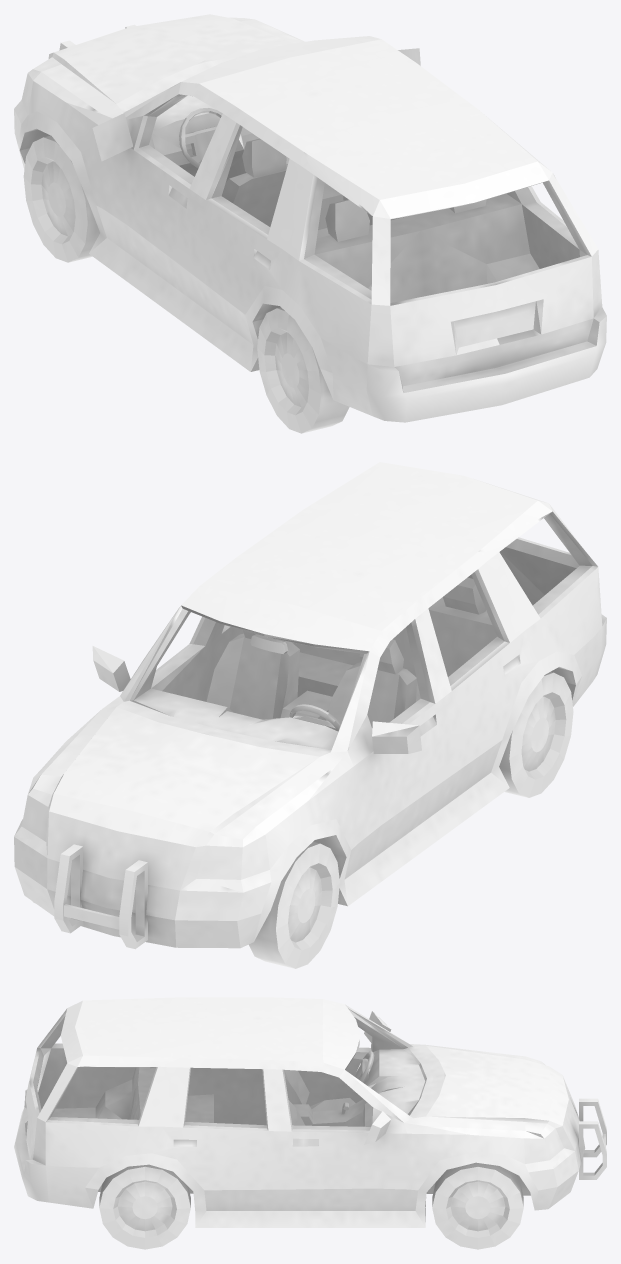
Rendered from Crossover.glb.
3 views of the same model, one above another, from view 1: azimuth 30°, elevation 25°; view 2: azimuth 150°, elevation 25°; view 3: azimuth 270°, elevation 25° (orthographic). The views are drawn at different scales.
Visible parts, largest first — view 1: Crossover, Crossover.001; view 2: Crossover, Crossover.001; view 3: Crossover, Crossover.001.
Boxes of the visible parts, <box> form: Crossover: <box>14,14,606,422</box>; Crossover.001: <box>23,135,349,433</box>; Crossover: <box>14,462,606,949</box>; Crossover.001: <box>32,672,573,968</box>; Crossover: <box>14,997,606,1227</box>; Crossover.001: <box>99,1162,523,1249</box>.
Bounding box in the file's own units: 2.21 × 1.64 × 4.88.
Materials: 1 (1 with a texture image).
